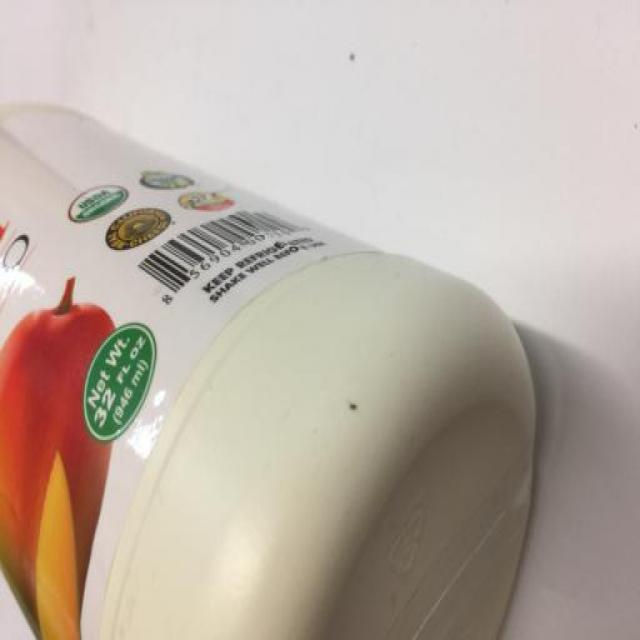plastic_bottle: (4, 95, 543, 640)
